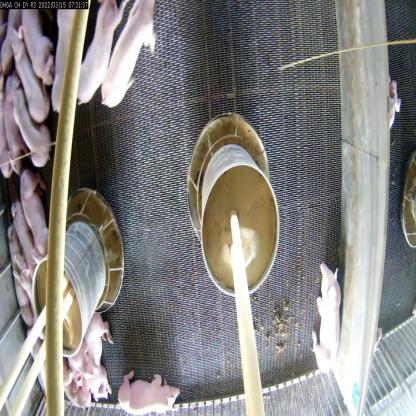Pig: (100, 0, 160, 115), (0, 65, 56, 171), (6, 22, 52, 136), (12, 151, 54, 263), (76, 4, 119, 103), (47, 3, 80, 119), (23, 1, 55, 81), (2, 222, 30, 311), (120, 375, 180, 415), (10, 195, 38, 272), (78, 319, 110, 384)
